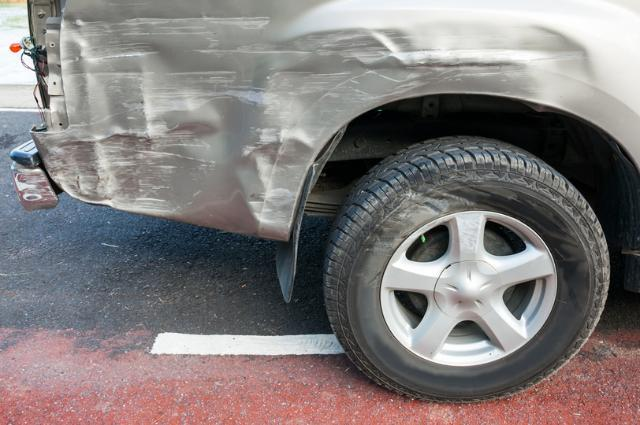Fender: (57, 0, 305, 232), (301, 0, 640, 124)
Light: (22, 0, 67, 126)
